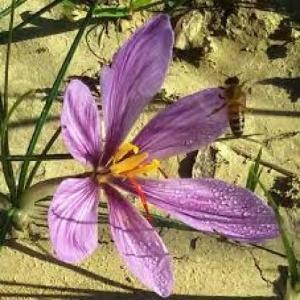Saffron: (48, 14, 281, 296)
